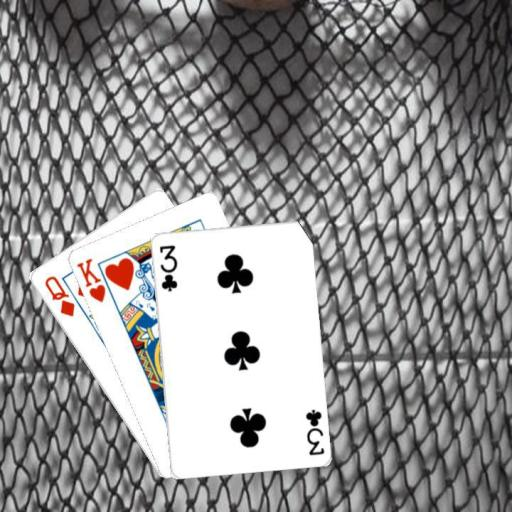3C: (302, 406, 326, 457), (156, 241, 179, 292)
KH: (73, 255, 107, 304)
QD: (41, 273, 76, 319)
